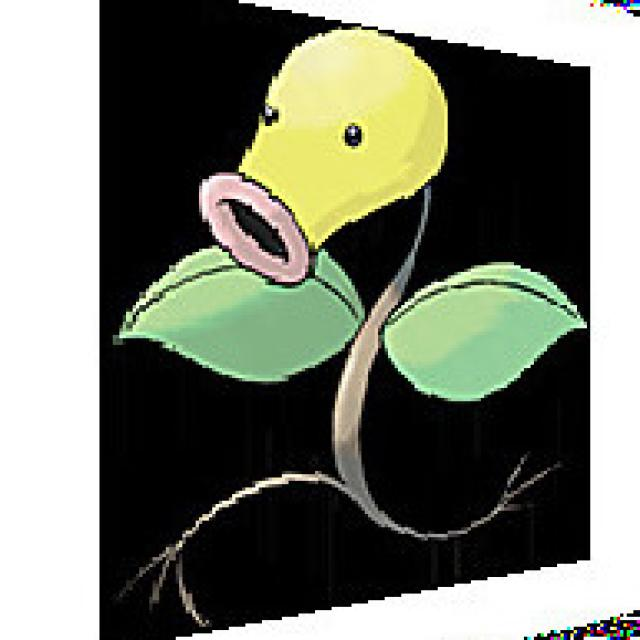Bellsprout: (113, 26, 480, 538)
